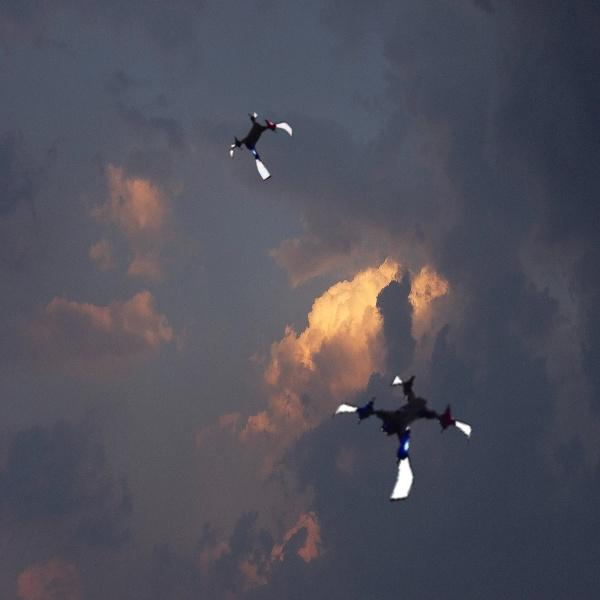drone: (322, 367, 469, 514), (227, 108, 298, 179)
